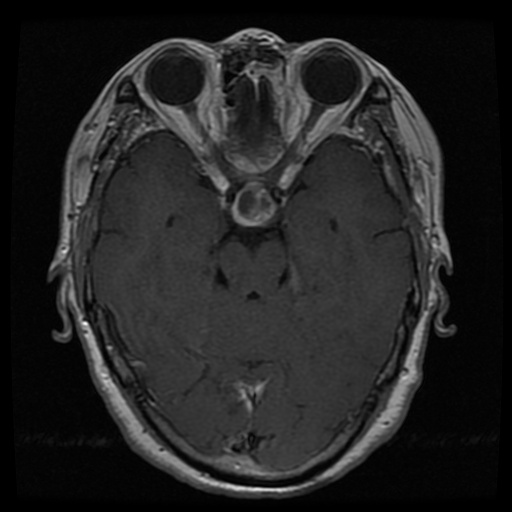pituitary: (232, 181, 277, 228)
